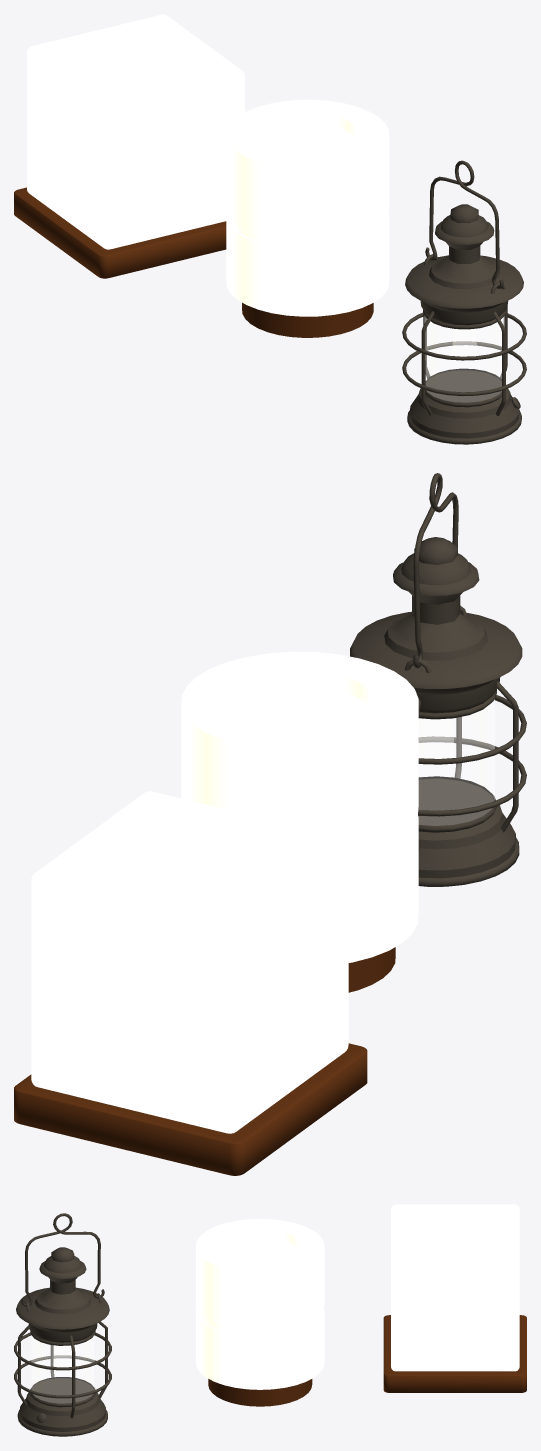
Rendered from lamps.fbx.
3 views of the same model, one above another, from view 1: azimuth 30°, elevation 25°; view 2: azimuth 150°, elevation 25°; view 3: azimuth 270°, elevation 25° (orthographic). The views are drawn at different scales.
Visible parts, largest first — view 1: lamp1, lamp2, Lantern; view 2: lamp1, lamp2, Lantern; view 3: lamp1, lamp2, Lantern.
Part boxes in pixels (x1,y1,x2,y2): lamp1: (14,14,244,278); lamp2: (226,99,389,337); Lantern: (402,160,526,444); lamp1: (14,791,367,1175); lamp2: (181,651,418,992); Lantern: (350,473,526,886); lamp1: (383,1204,526,1392); lamp2: (196,1218,324,1406); Lantern: (14,1213,111,1436).
Bounding box in the file's own units: 301 × 352 × 797.
